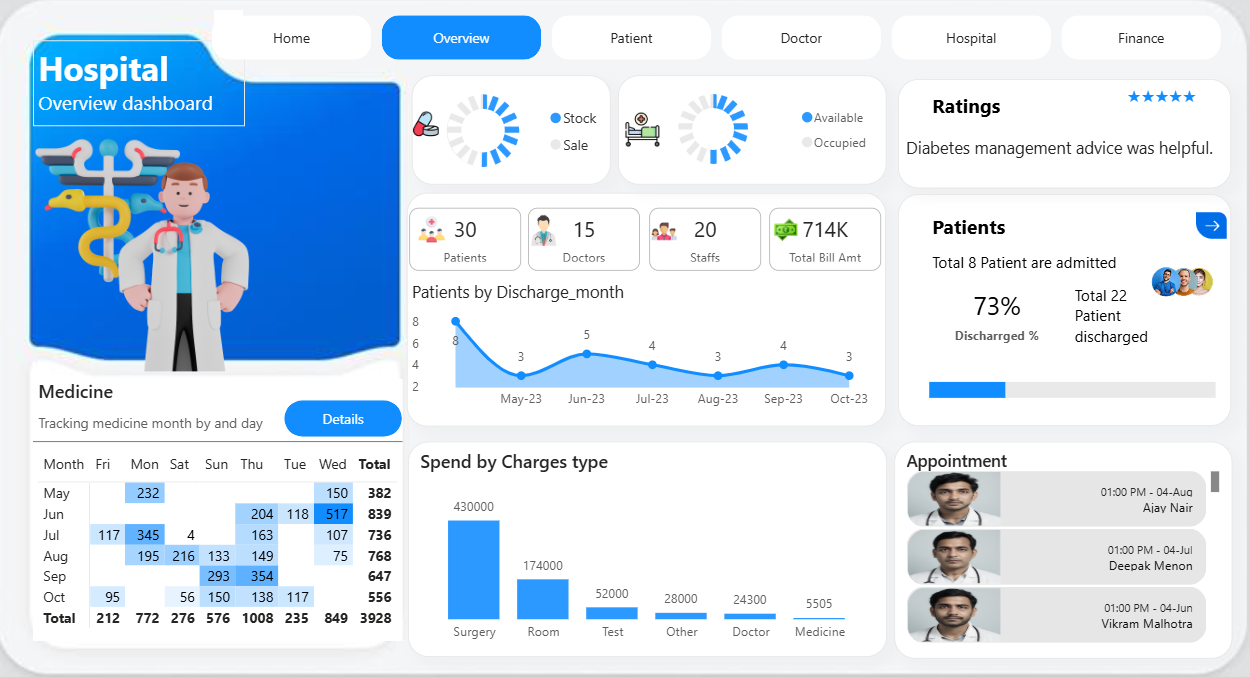

What the dashboard file says about the page in this screenshot:
{"tool":"powerbi","page":{"name":"Overview","canvas":[1280,720],"ordinal":1},"visuals":[{"type":"shape","box":[438.4,107.2,192,105.6],"z":0},{"type":"shape","box":[433.6,220.8,462,225.6],"z":1000},{"type":"image","box":[40.5,145.7,280.1,252.6],"z":2000},{"type":"textbox","box":[72,73.6,204.8,83.2],"z":3000},{"type":"pivotTable","title":"Medicine","fields":{"Rows":["Calender.Month"],"Columns":["Calender.Day"],"Values":["Sum(medicine_patient.qty)"]},"box":[72,400,356.8,252.8],"z":4000},{"type":"actionButton","box":[315.2,420.8,113.6,35.2],"z":5000},{"type":"pageNavigator","box":[244.8,49.6,974.4,43.2],"z":6000},{"type":"columnChart","title":"Spend by Charges type","fields":{"Category":["Hospital Bills.Attribute"],"Y":["Sum(Hospital Bills.Value)"]},"box":[434.2,461.3,462,208.4],"z":7000},{"type":"advancedSlicerVisual","title":"Appointment","fields":{"Values":["Appointment.Appointment_Date_time"]},"box":[904,460.8,326.4,209.6],"z":8000},{"type":"card","fields":{"Values":["_Measures.Patient_Count"]},"box":[435.6,235.2,108.3,60.8],"z":9000,"group":"g1"},{"type":"areaChart","fields":{"Y":["_Measures.Patient_Count"],"Category":["patient.Discharge_month"]},"box":[433.6,305.6,457.6,132.8],"z":9000},{"type":"shape","box":[907.2,222.4,321.6,224],"z":10000},{"type":"card","fields":{"Values":["Count(patient.Doctor.name)"]},"box":[550.5,235.2,108.3,60.8],"z":10000,"group":"g1"},{"type":"image","box":[1145.6,222.4,83.2,116.8],"z":11000},{"type":"card","fields":{"Values":["Count(Staff.name)"]},"box":[666.9,235.2,108.3,60.8],"z":11000,"group":"g1"},{"type":"actionButton","box":[935.9,234.8,113.3,35.6],"z":12000},{"type":"card","fields":{"Values":["_Measures.Total_bill_Ammount"]},"box":[783.3,235.2,108.3,60.8],"z":12000,"group":"g1"},{"type":"actionButton","box":[935.9,268.8,233.2,35.6],"z":13000},{"type":"card","fields":{"Values":["_Measures.Discharrged %"]},"box":[932.7,298.9,140.9,79.3],"z":14000},{"type":"actionButton","box":[1073.5,299.3,105.2,79.3],"z":15000},{"type":"hundredPercentStackedBarChart","title":"Monthwise Med sale","fields":{"Y":["_Measures.Patient_Count"],"Series":["patient.status"]},"box":[932.8,372.8,286.4,70.4],"z":16000},{"type":"donutChart","title":"Monthwise Med sale","fields":{"Y":["_Measures.Total Stock med","_Measures.Total_Med_Sale"]},"box":[438.4,112,192,97.6],"z":17000},{"type":"shape","box":[636.8,107.2,259.2,105.6],"z":18000},{"type":"donutChart","title":"Monthwise Med sale","fields":{"Category":["Beds status.status"],"Y":["CountNonNull(Beds status.Count_Beds)"]},"box":[640,112,251.2,94.4],"z":19000},{"type":"shape","box":[907.2,110.4,321.6,105.6],"z":20000},{"type":"actionButton","box":[935.9,118.2,113.3,35.6],"z":21000},{"type":"image","box":[452.8,120,110.4,81.6],"z":22000},{"type":"image","box":[672.8,116.1,111.3,82.7],"z":23000},{"type":"card","fields":{"Values":["_Measures.Sum of rating star rating"]},"box":[1105.6,115.2,113.6,25.6],"z":24000},{"type":"card","fields":{"Values":["Min(patient.feedback)"]},"box":[907.2,150.4,312,57.6],"z":25000},{"type":"group","id":"g1","title":"Group 1","box":[435.6,235.2,456,60.8],"z":26000},{"type":"image","box":[782.6,235.4,31.8,42.9],"z":27000},{"type":"image","box":[439,233.8,36.6,44.5],"z":28000},{"type":"image","box":[544,227.5,42.9,58.9],"z":29000},{"type":"image","box":[664.9,235.4,33.4,46.1],"z":30000},{"type":"image","box":[639.4,114.5,42.9,90.7],"z":31000},{"type":"image","box":[434.2,119.3,35,70],"z":32000}]}

Visuals, with their boxes on the page's 1280x720 design canvas (x1, y1, x2, y2). These are canvas units, not pixel positions in the 1250x677 screenshot, which may show the page scaled, cropped or inside an application window:
shape: bbox=(438, 107, 630, 213)
shape: bbox=(434, 221, 896, 446)
image: bbox=(40, 146, 321, 398)
textbox: bbox=(72, 74, 277, 157)
"Medicine" pivotTable: bbox=(72, 400, 429, 653)
actionButton: bbox=(315, 421, 429, 456)
pageNavigator: bbox=(245, 50, 1219, 93)
"Spend by Charges type" columnChart: bbox=(434, 461, 896, 670)
"Appointment" advancedSlicerVisual: bbox=(904, 461, 1230, 670)
card - _Measures.Patient_Count: bbox=(436, 235, 544, 296)
areaChart - _Measures.Patient_Count x patient.Discharge_month: bbox=(434, 306, 891, 438)
shape: bbox=(907, 222, 1229, 446)
card - Count(patient.Doctor.name): bbox=(550, 235, 659, 296)
image: bbox=(1146, 222, 1229, 339)
card - Count(Staff.name): bbox=(667, 235, 775, 296)
actionButton: bbox=(936, 235, 1049, 270)
card - _Measures.Total_bill_Ammount: bbox=(783, 235, 892, 296)
actionButton: bbox=(936, 269, 1169, 304)
card - _Measures.Discharrged %: bbox=(933, 299, 1074, 378)
actionButton: bbox=(1074, 299, 1179, 379)
"Monthwise Med sale" hundredPercentStackedBarChart: bbox=(933, 373, 1219, 443)
"Monthwise Med sale" donutChart: bbox=(438, 112, 630, 210)
shape: bbox=(637, 107, 896, 213)
"Monthwise Med sale" donutChart: bbox=(640, 112, 891, 206)
shape: bbox=(907, 110, 1229, 216)
actionButton: bbox=(936, 118, 1049, 154)
image: bbox=(453, 120, 563, 202)
image: bbox=(673, 116, 784, 199)
card - _Measures.Sum of rating star rating: bbox=(1106, 115, 1219, 141)
card - Min(patient.feedback): bbox=(907, 150, 1219, 208)
"Group 1" group: bbox=(436, 235, 892, 296)
image: bbox=(783, 235, 814, 278)
image: bbox=(439, 234, 476, 278)
image: bbox=(544, 228, 587, 286)
image: bbox=(665, 235, 698, 282)
image: bbox=(639, 114, 682, 205)
image: bbox=(434, 119, 469, 189)
